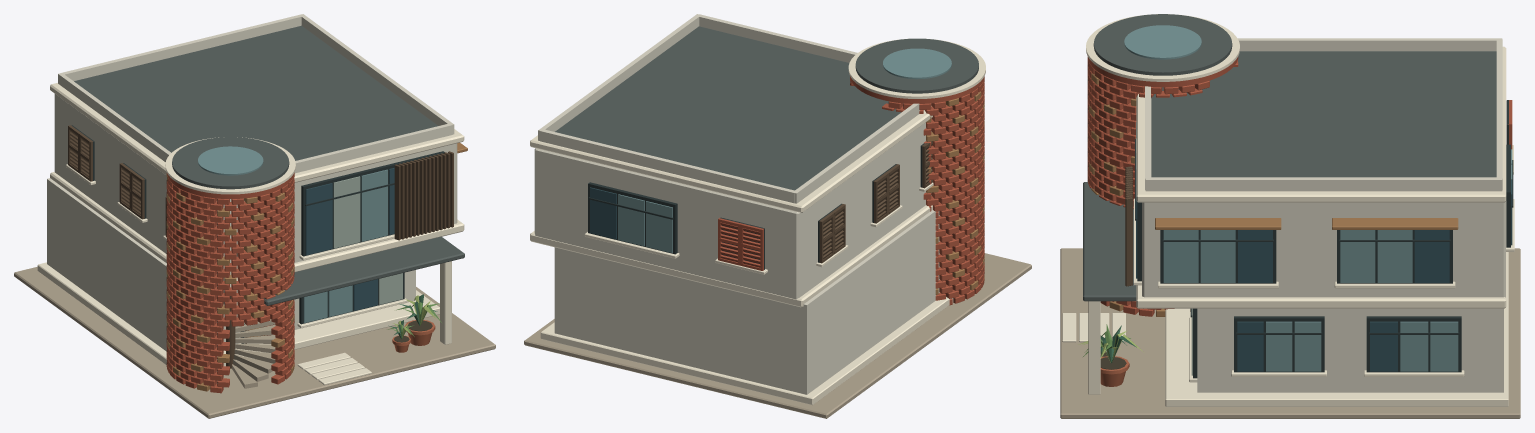
The picture shows the model from 3 angles, left to right: view 1: azimuth 30°, elevation 25°; view 2: azimuth 150°, elevation 25°; view 3: azimuth 270°, elevation 25°; orthographic projection. The views are drawn at different scales.
Visible parts, largest first — view 1: Cantilever sleeping wing, Board formed concrete, Kiln brick stair screen, Casement assemblies, Louvred shutters, Cast spiral treads, Potted pandan, Entry pavers; view 2: Board formed concrete, Cantilever sleeping wing, Kiln brick stair screen, Louvred shutters, Casement assemblies; view 3: Board formed concrete, Cantilever sleeping wing, Casement assemblies, Kiln brick stair screen, Monsoon sunhoods, Potted pandan, Entry pavers.
Part boxes in pixels (x1,y1,x2,y2): Cantilever sleeping wing: [50, 14, 464, 287]; Board formed concrete: [14, 94, 495, 418]; Kiln brick stair screen: [165, 137, 295, 393]; Casement assemblies: [297, 151, 444, 328]; Louvred shutters: [66, 125, 166, 240]; Cast spiral treads: [217, 247, 275, 388]; Potted pandan: [387, 294, 441, 352]; Entry pavers: [297, 352, 371, 385]; Board formed concrete: [524, 118, 1031, 418]; Cantilever sleeping wing: [530, 14, 932, 307]; Kiln brick stair screen: [848, 38, 985, 305]; Louvred shutters: [715, 141, 933, 274]; Casement assemblies: [584, 182, 679, 258]; Board formed concrete: [1060, 182, 1520, 418]; Cantilever sleeping wing: [1125, 38, 1506, 308]; Casement assemblies: [1133, 122, 1514, 382]; Kiln brick stair screen: [1086, 14, 1239, 316]; Monsoon sunhoods: [1155, 218, 1458, 229]; Potted pandan: [1078, 324, 1142, 386]; Entry pavers: [1062, 313, 1125, 342].
Size of the model in its own units: 10.88 by 7.33 by 12.25.
